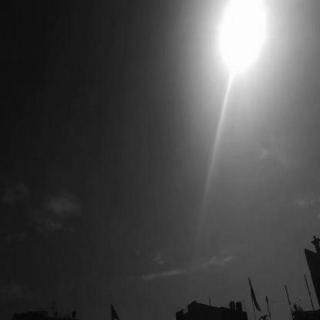other: (213, 2, 271, 74)
